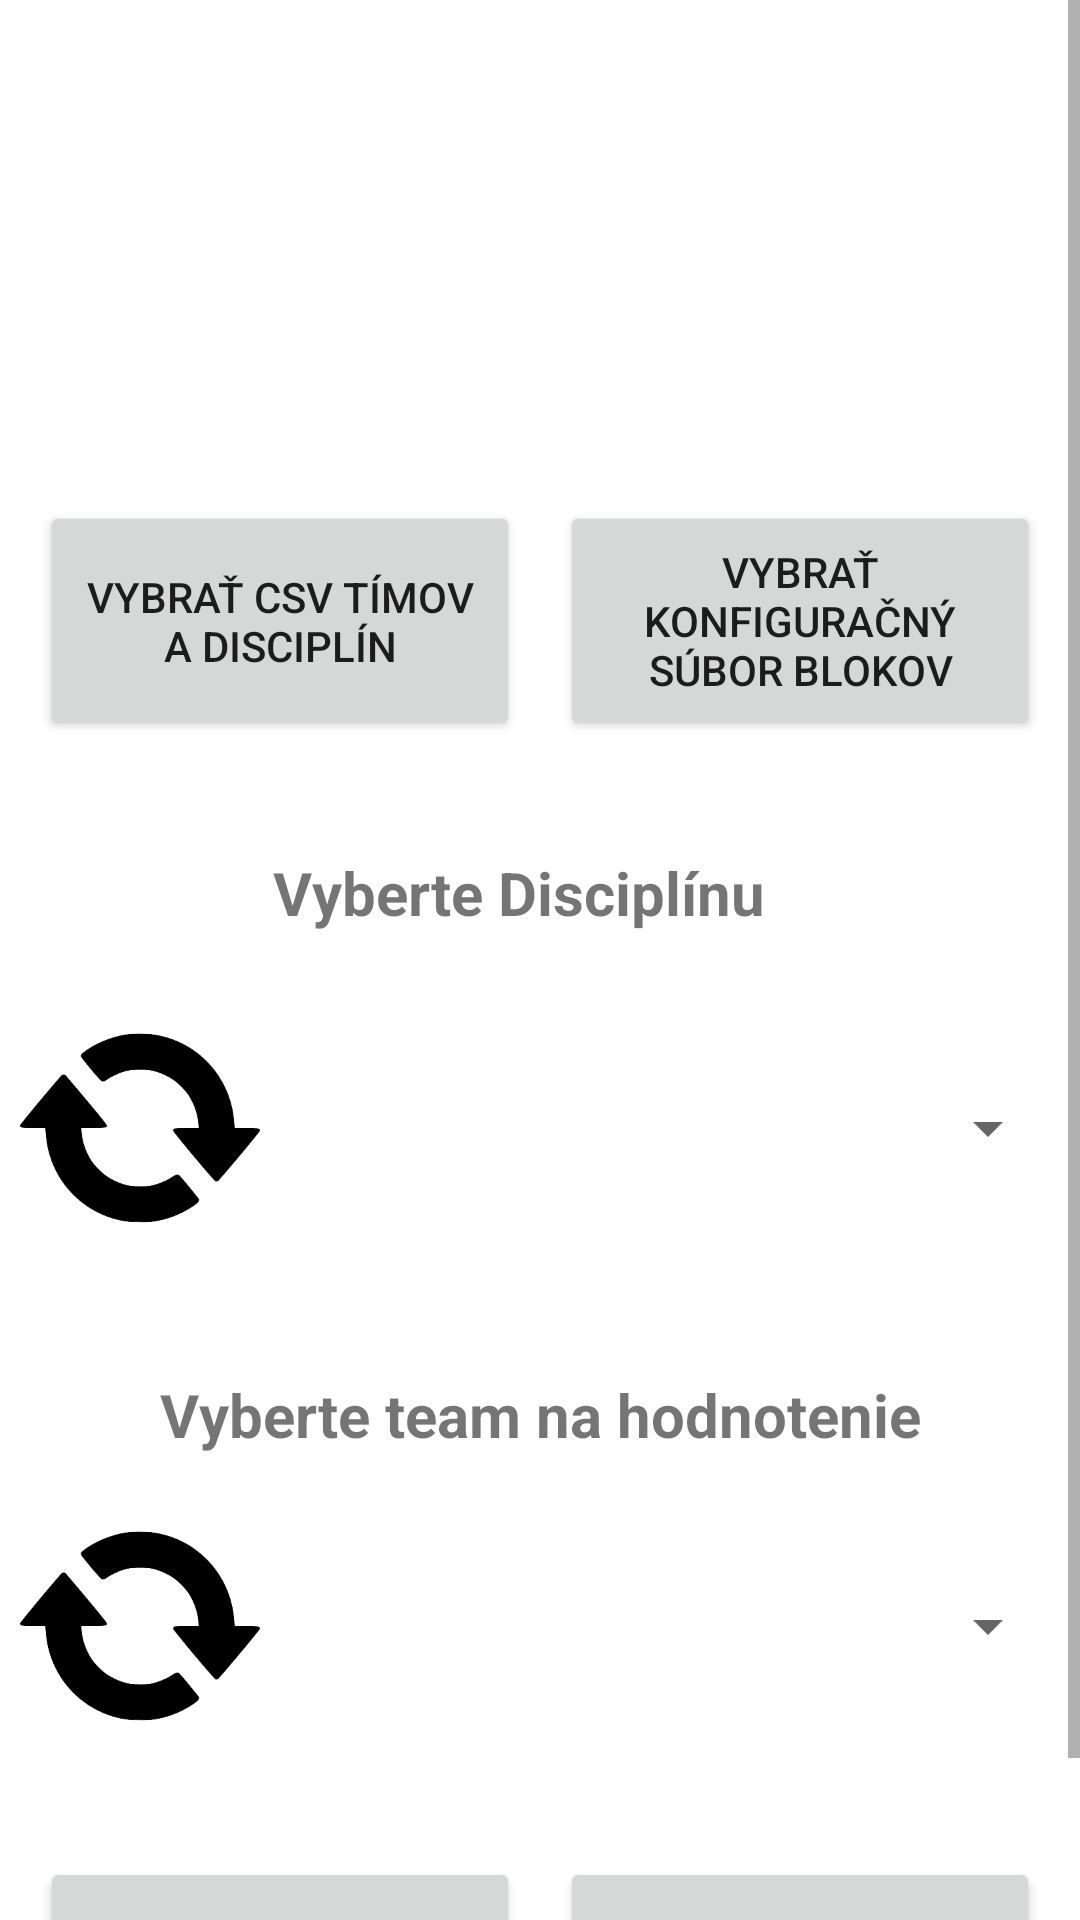

Icons on this 1080*1920 Android screen, each with the point to tap as [x,y]:
reloaddiscip: [140,1128]
reloadhodnot: [140,1626]
